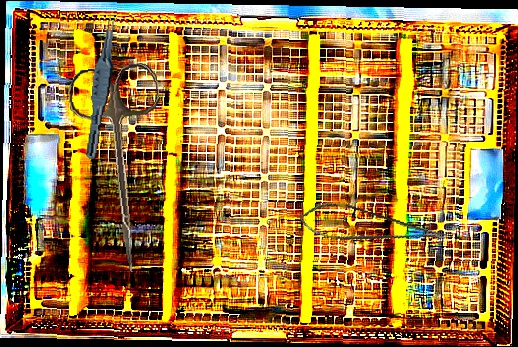Iris Scissors: (65, 61, 181, 277)
Micro Scissor: (295, 193, 449, 267)
Tissue Forceps: (84, 12, 120, 161)
